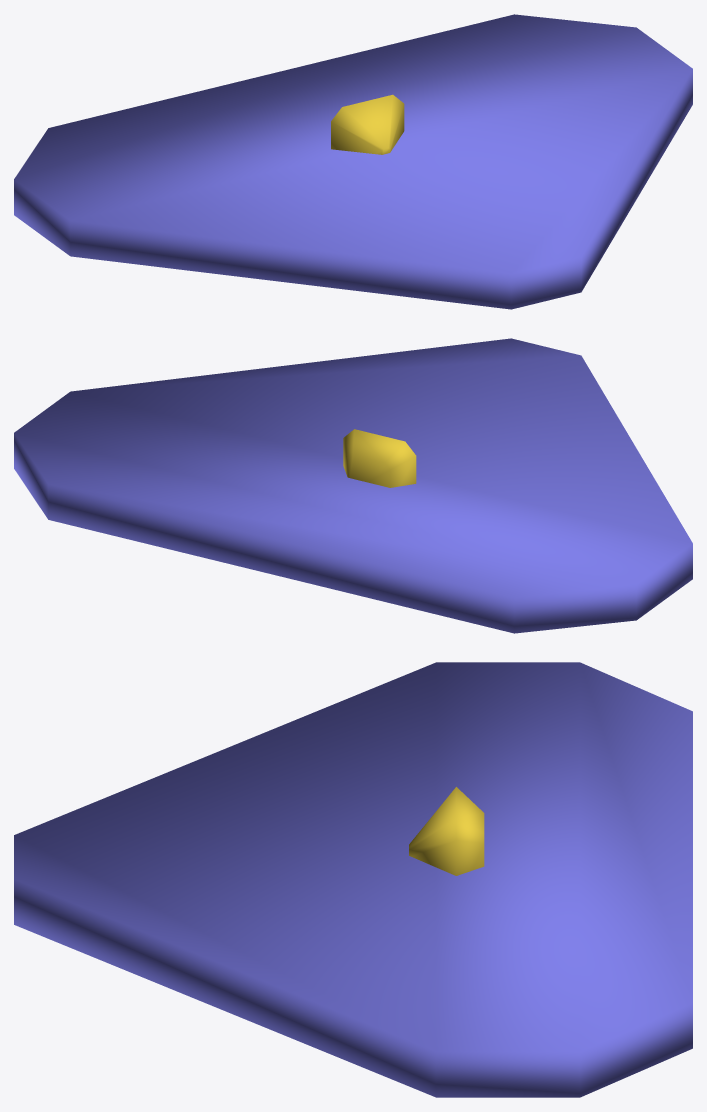
File: Emporium_SIgn.fbx
3 views of the same model, one above another, from view 1: azimuth 30°, elevation 25°; view 2: azimuth 150°, elevation 25°; view 3: azimuth 270°, elevation 25° (orthographic). The views are drawn at different scales.
Parts seen in each view (by area): view 1: Emporium_low; view 2: Emporium_low; view 3: Emporium_low.
Boxes of the visible parts, bbox=[...] form: Emporium_low: bbox=[14, 14, 692, 309]; Emporium_low: bbox=[14, 338, 692, 633]; Emporium_low: bbox=[14, 662, 692, 1097].
Bounding box in the file's own units: 4.56 × 0.5275 × 3.37.
